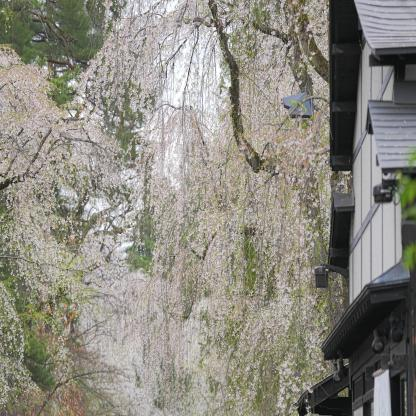ShidareZakura: (0, 1, 352, 416)
